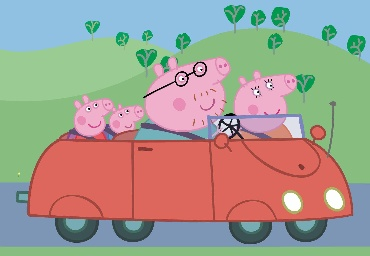Peppa: (70, 95, 114, 141)
